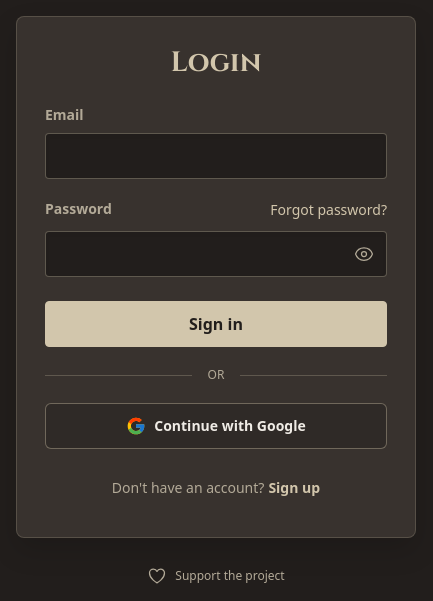
locks all authentication actions and rejects duplicate form submissions
The image size is (433, 601).
Type "player@example.com" into the field labelled "Email" at (216, 156), box [45,133,387,179]
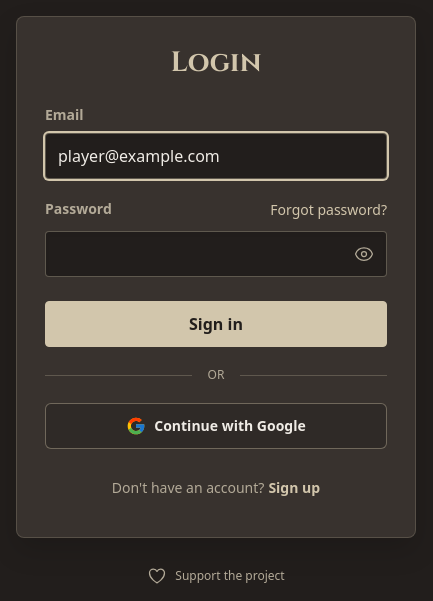
Type "correct horse battery staple" into the password field labelled "Password" at (216, 254), box [45,231,387,277]
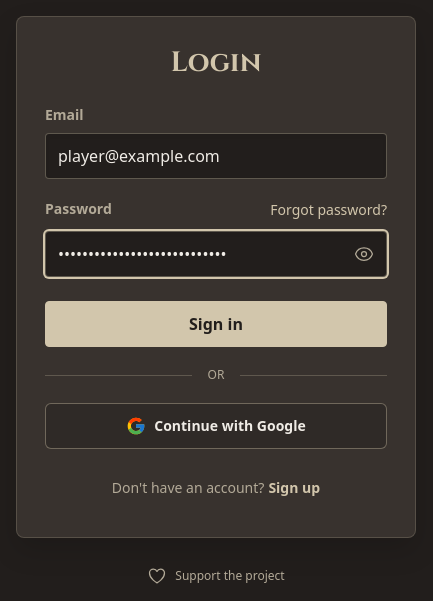
Submit the form "Login"
Submit the form "Login"
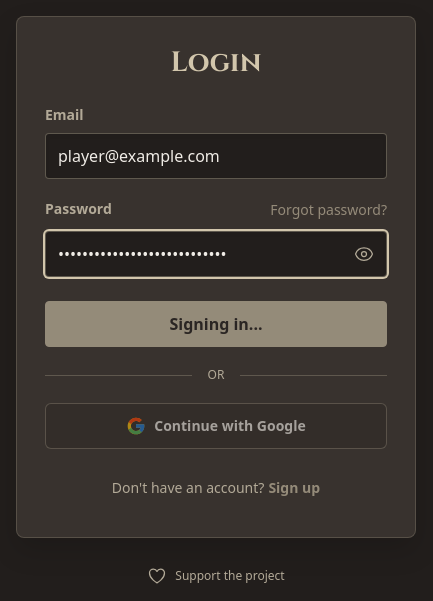
Check: the button "Signing in..." is disabled, box [45,301,387,347]
Check: the button "Continue with Google" is disabled
Check: the button "Forgot password?" is disabled, box [270,187,387,231]
Click the button "Continue with Google" at (216, 426), box [45,403,387,449]
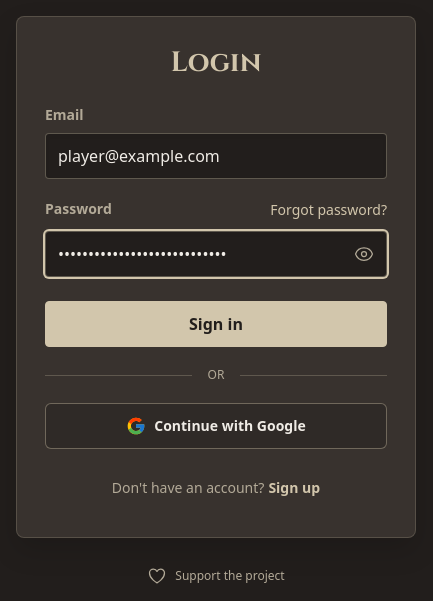
Check: the button "Sign in" is enabled, box [45,301,387,347]
